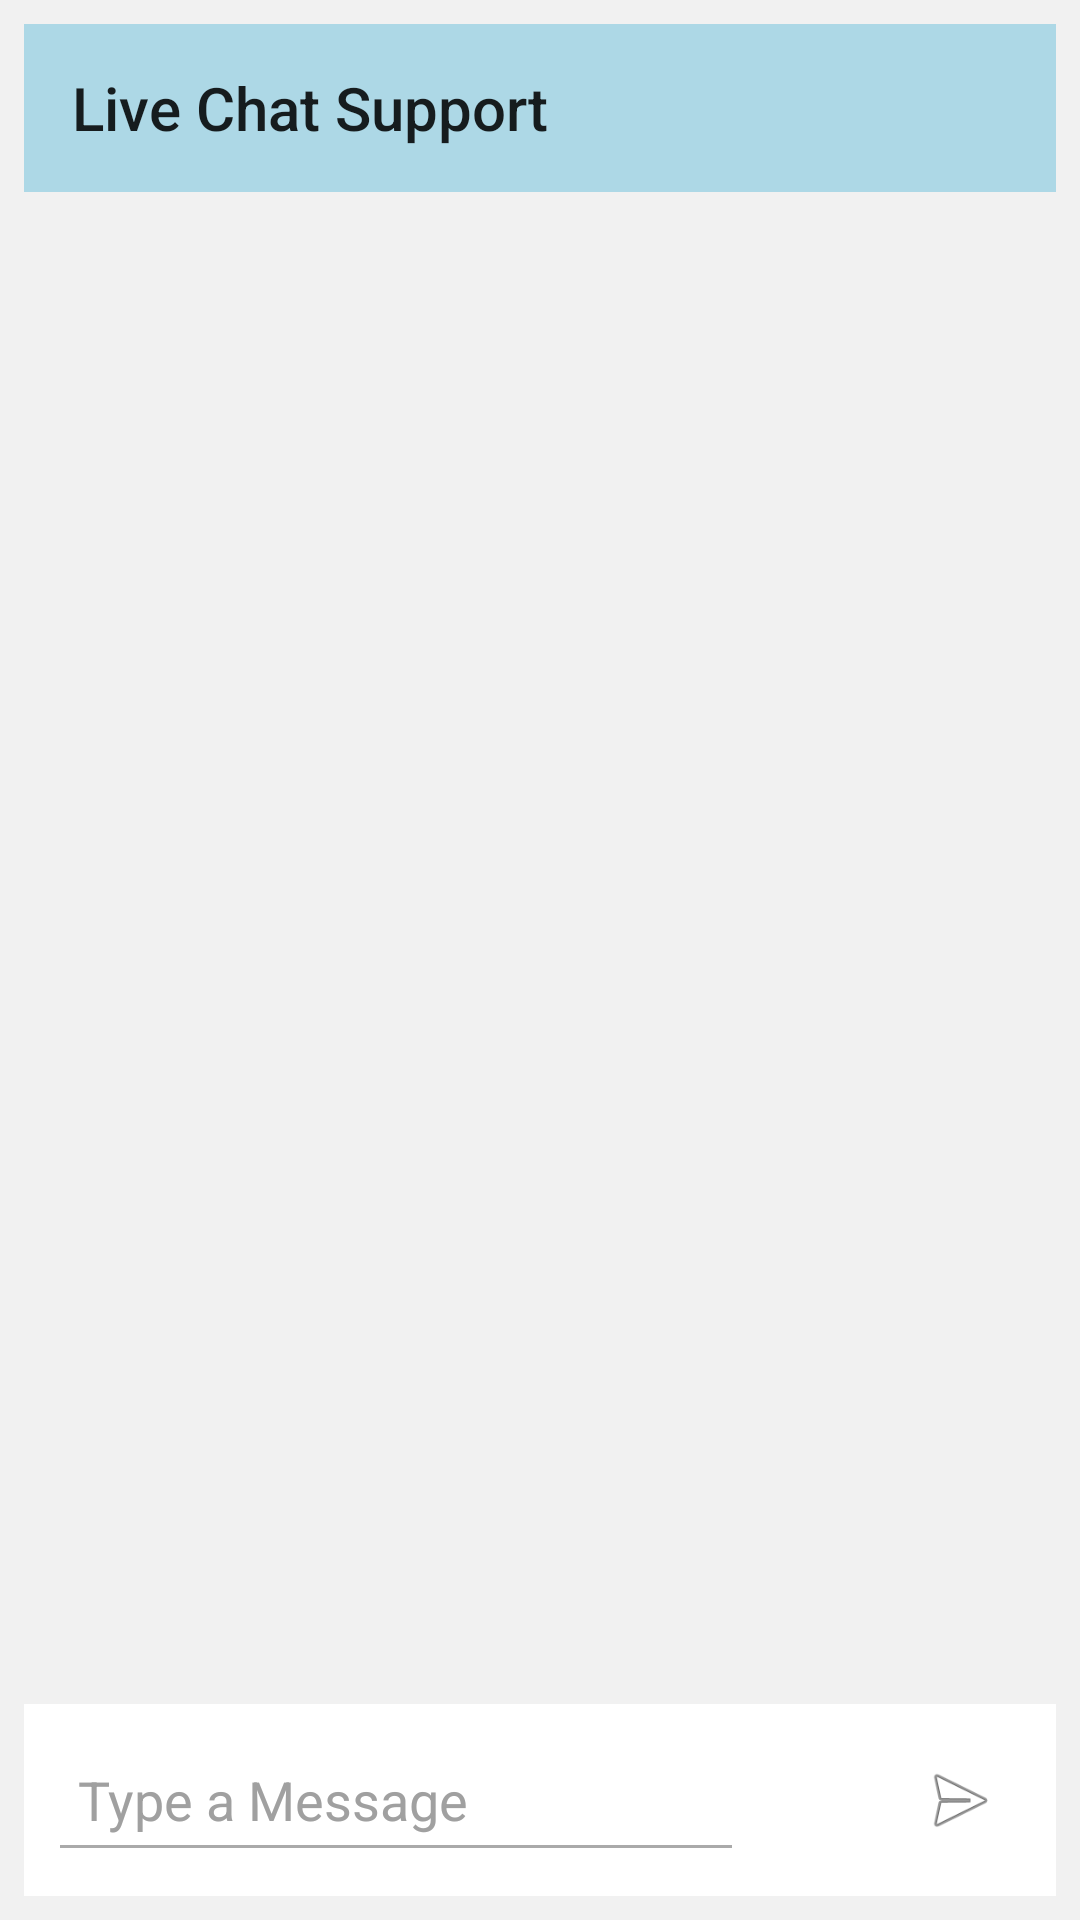

Where to tap for icons on this 1080x1920 app screen, as point (x, y):
Send Message: point (961, 1800)
